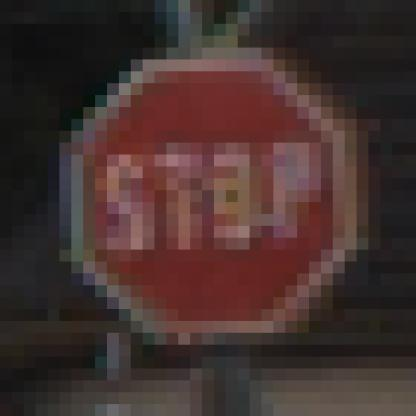stop: (51, 44, 370, 342)
